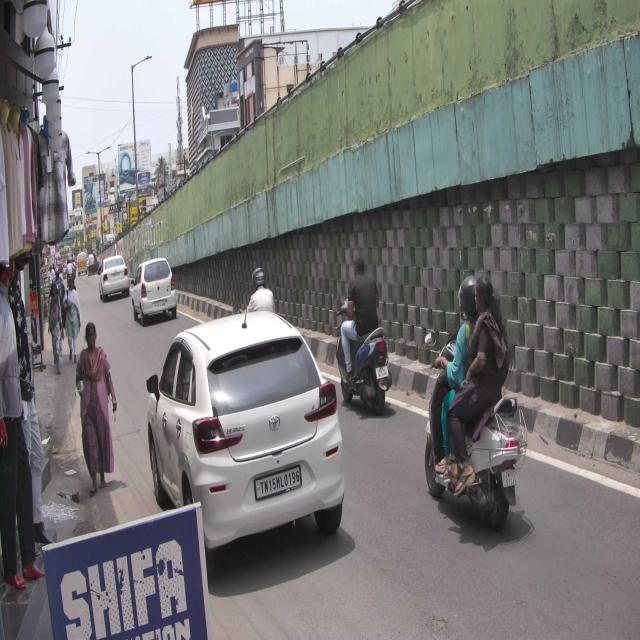double_rider: (422, 270, 530, 532)
